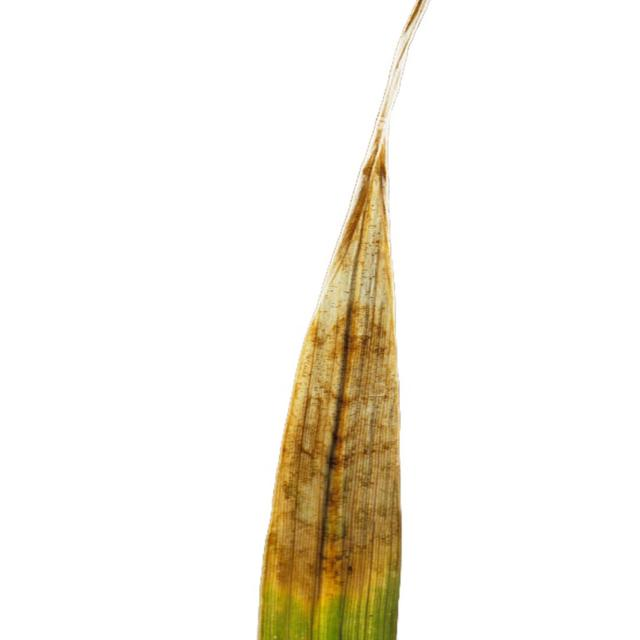Leaf scald: (218, 0, 453, 640)
